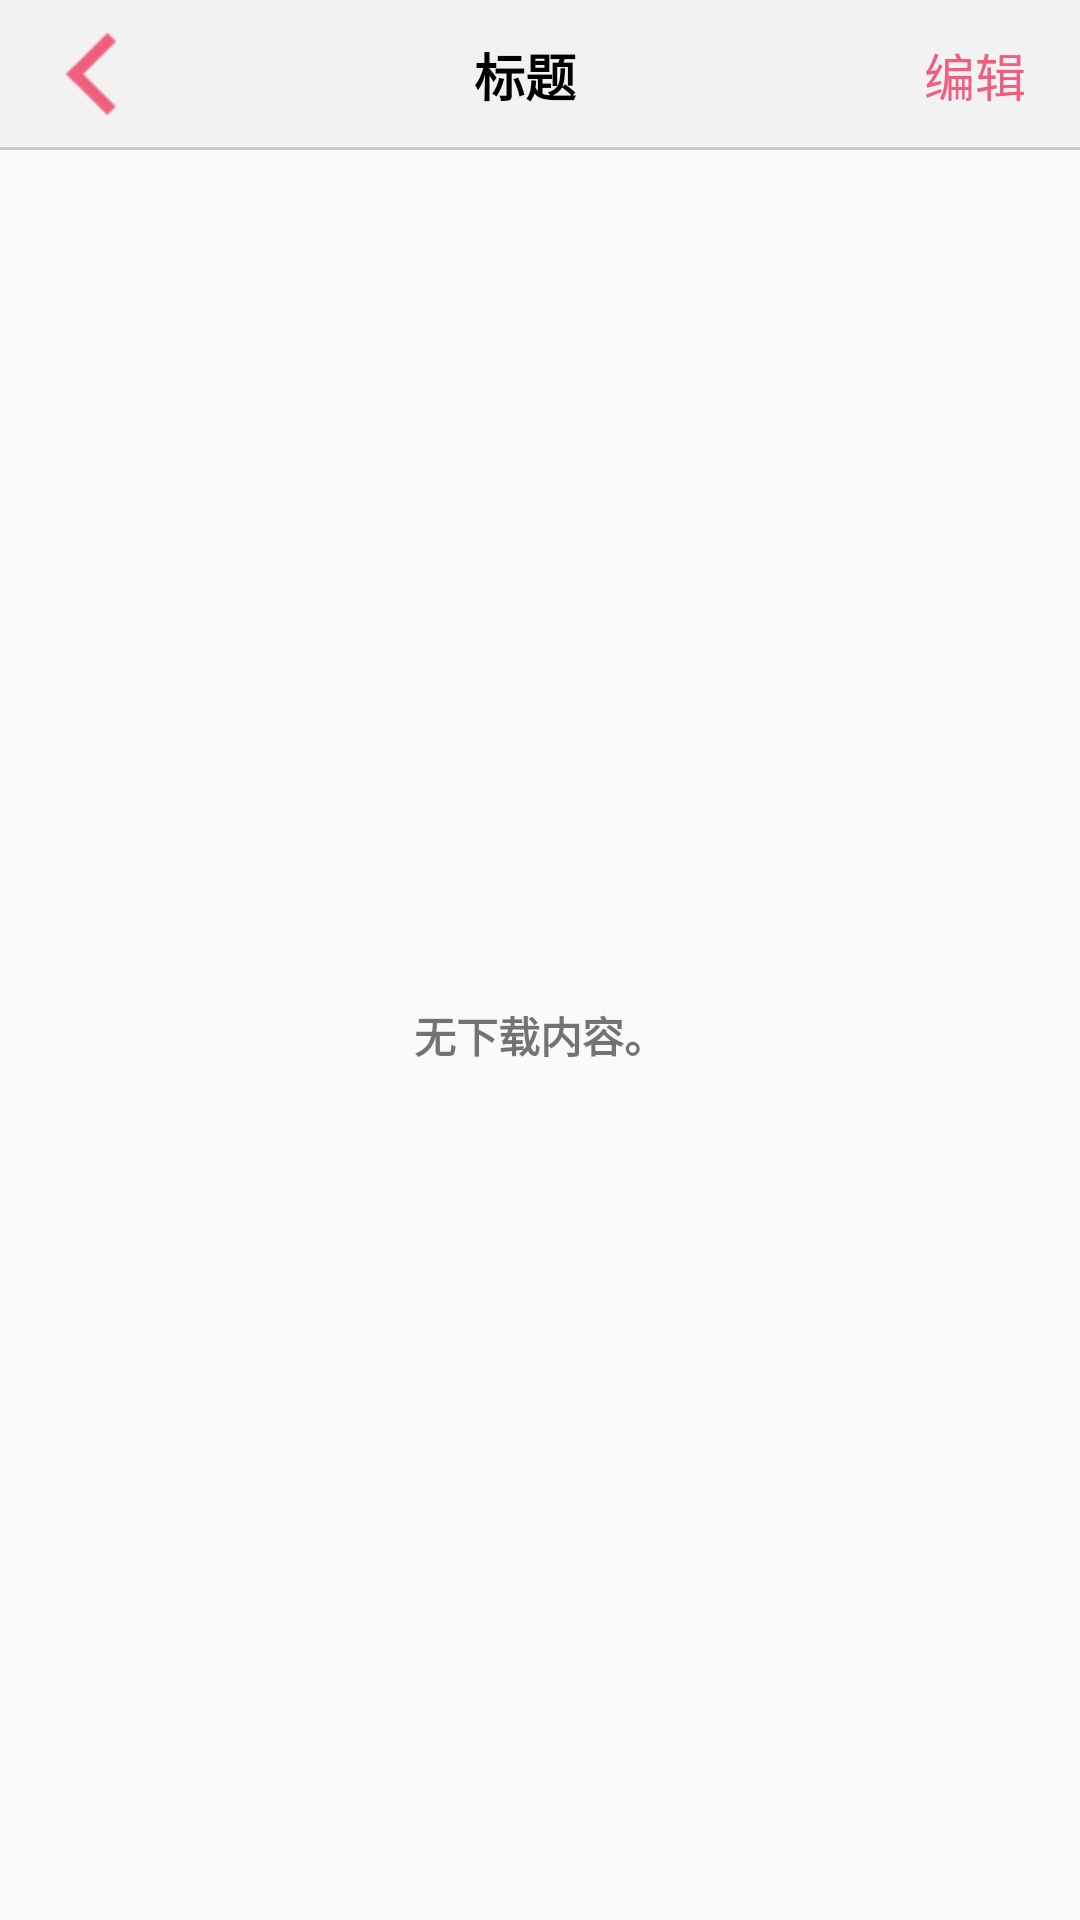

Icons on this 1080px×1920px Android screen, each with its box as (x1, y1, x2, y2):
mo download mgr back: (65, 33, 116, 116)
